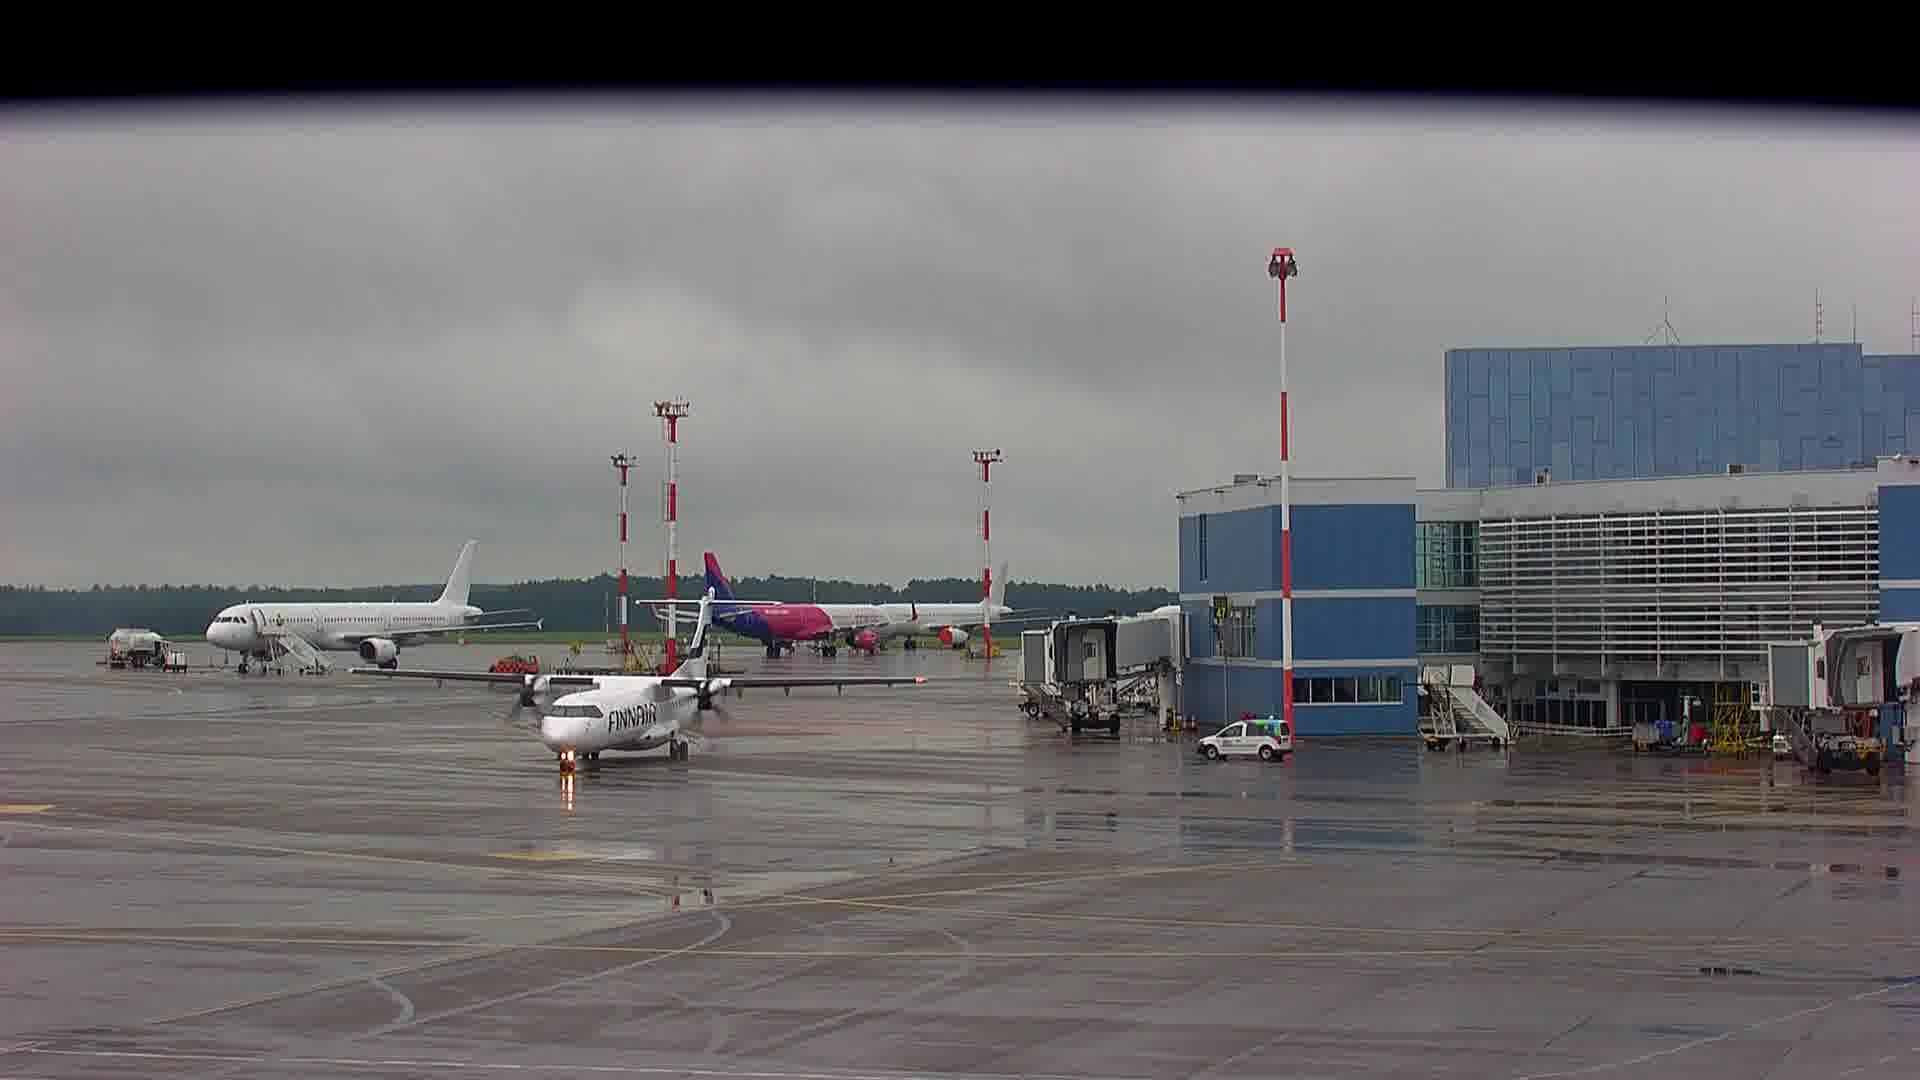Car: (1192, 709, 1298, 764)
Fuel: (91, 624, 164, 676)
Mobile stairs: (1404, 661, 1527, 756)
Plane: (347, 584, 928, 781), (193, 535, 551, 676), (641, 555, 922, 673), (866, 562, 1054, 655)
